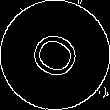O_SE: (23, 25, 87, 85)
